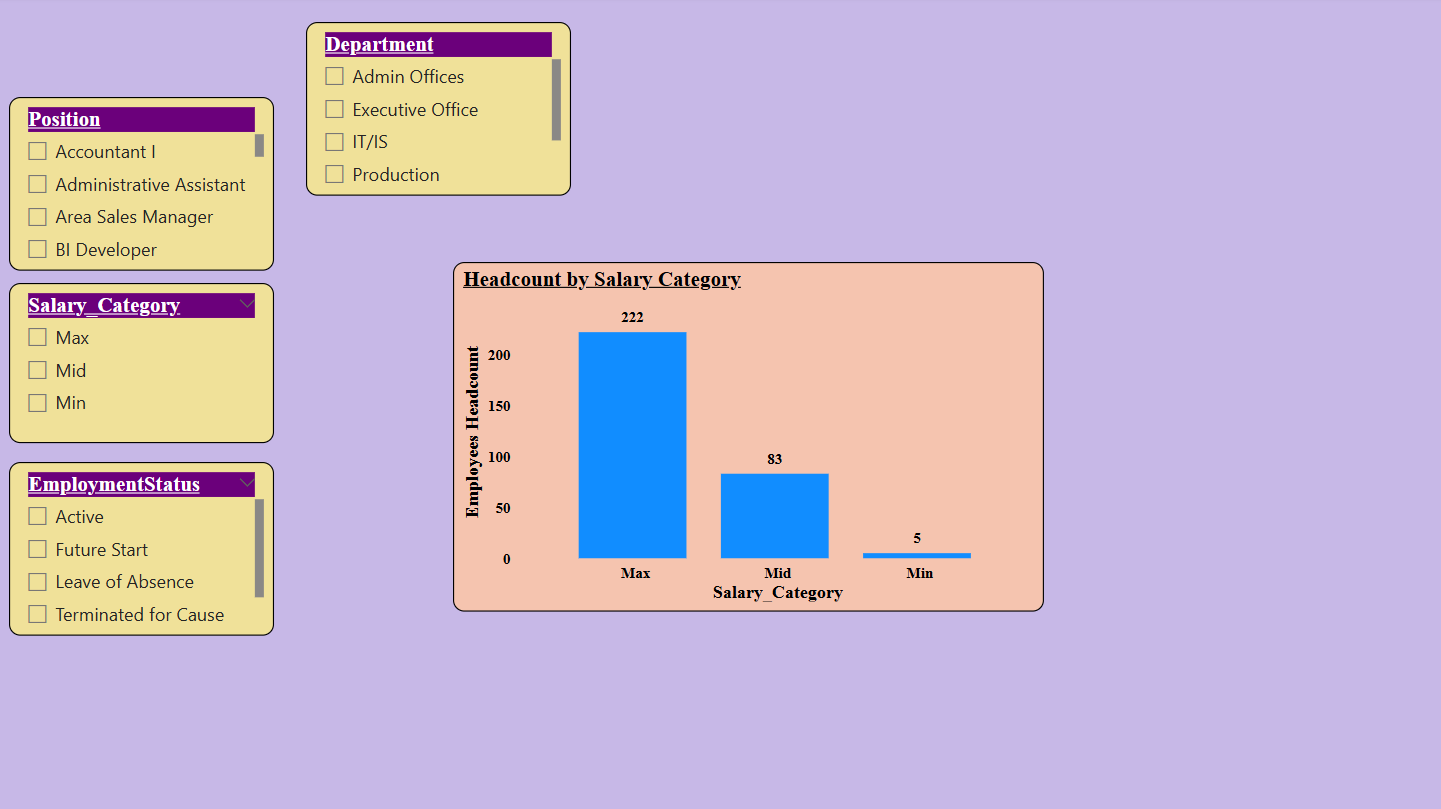

Layout of this report page (visuals, bound fields, positions):
{"tool":"powerbi","page":{"name":"Salary Category Analysis","canvas":[1280,720],"ordinal":2},"visuals":[{"type":"slicer","fields":{"Values":["HRDataset.Position"]},"box":[8.7,88.5,235.1,154.4],"z":0},{"type":"slicer","fields":{"Values":["HRDataset.Salary_Category"]},"box":[8.7,253.3,235.1,142.3],"z":1000},{"type":"columnChart","title":"Headcount by Salary Category","fields":{"Y":["CountNonNull(HRDataset.EmpID)"],"Category":["HRDataset.Salary_Category"]},"box":[402.5,235.1,524,309.7],"z":2000},{"type":"slicer","fields":{"Values":["HRDataset.EmploymentStatus"]},"box":[8.7,412,235.1,154.4],"z":3000},{"type":"slicer","fields":{"Values":["HRDataset.Department"]},"box":[272.4,22.6,235.1,154.4],"z":4000}]}

Visuals, with their boxes in screenshot pixels (x1, y1, x2, y2), scaled from the page's 1280x720 canvas onto the 1441x809 screenshot:
slicer - HRDataset.Position: box(10, 99, 274, 273)
slicer - HRDataset.Salary_Category: box(10, 285, 274, 445)
"Headcount by Salary Category" columnChart: box(453, 264, 1043, 612)
slicer - HRDataset.EmploymentStatus: box(10, 463, 274, 636)
slicer - HRDataset.Department: box(307, 25, 571, 199)
